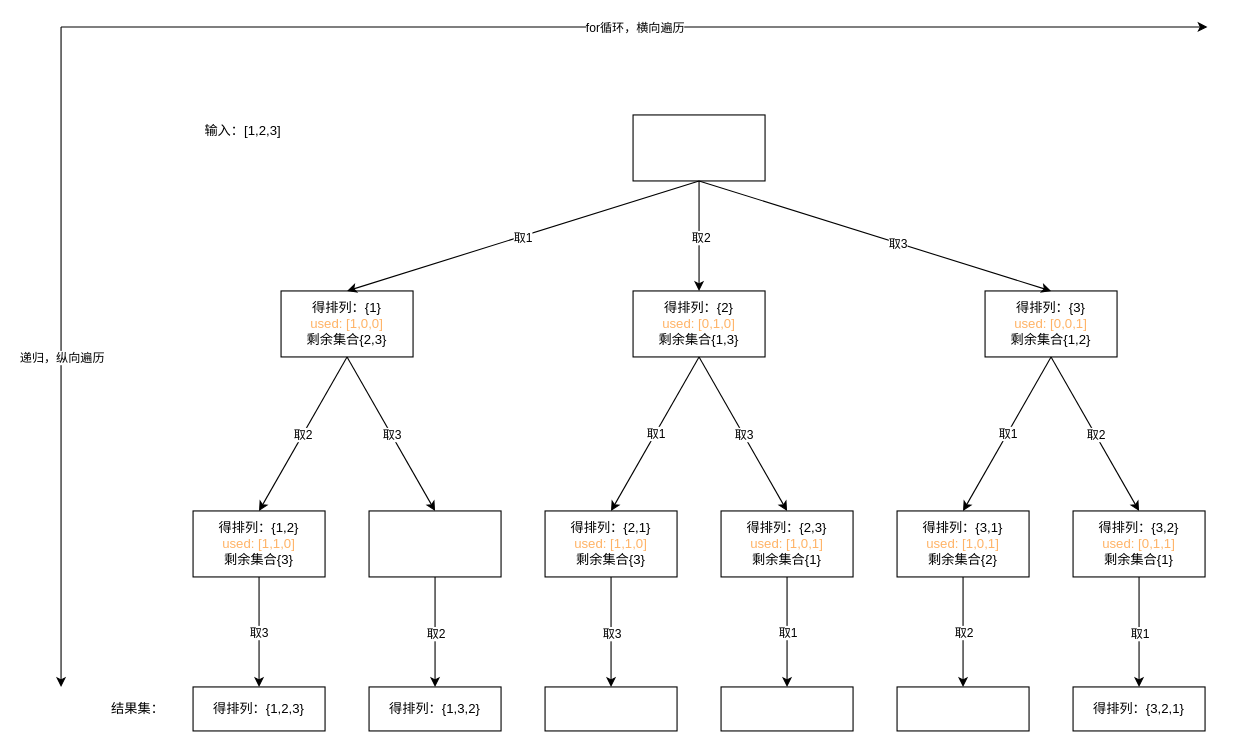
The diagram is 1235 pixels wide and 750 high, and some of its shapes have lost their labels. Each missing label, with the centre of its shape:
"得排列：{1,3} used: [1,0,1] 剩余 集合{2}" goes at (434,543).
"得排列：{2,1,3}" goes at (610,708).
"得排列：{2,3,1}" goes at (786,708).
"得排列：{3,1,2}" goes at (962,708).
"集合{1,2,3} used: [0,0,0]" goes at (698,147).
